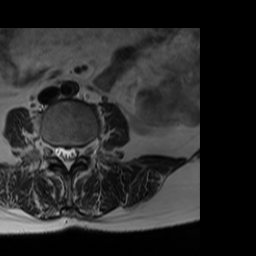CCS_normal: (63, 143, 71, 174)
LFS_normal: (78, 143, 87, 164)
LLS_normal: (69, 143, 78, 168)
RFS_normal: (46, 141, 56, 168)
RLS_normal: (55, 141, 62, 163)
